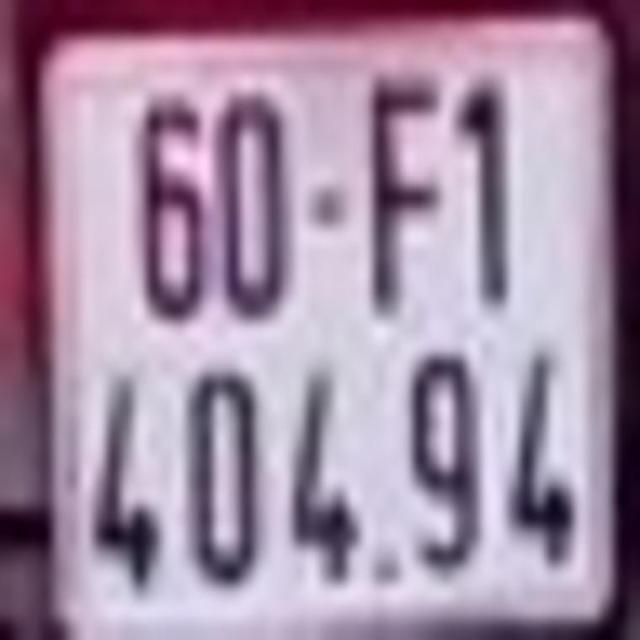0: (216, 91, 288, 318), (186, 368, 260, 585)
1: (456, 75, 517, 308)
4: (287, 363, 361, 586), (509, 347, 580, 570), (91, 374, 163, 592)
6: (141, 96, 206, 321)
9: (406, 345, 482, 575)
F: (367, 73, 446, 316)
